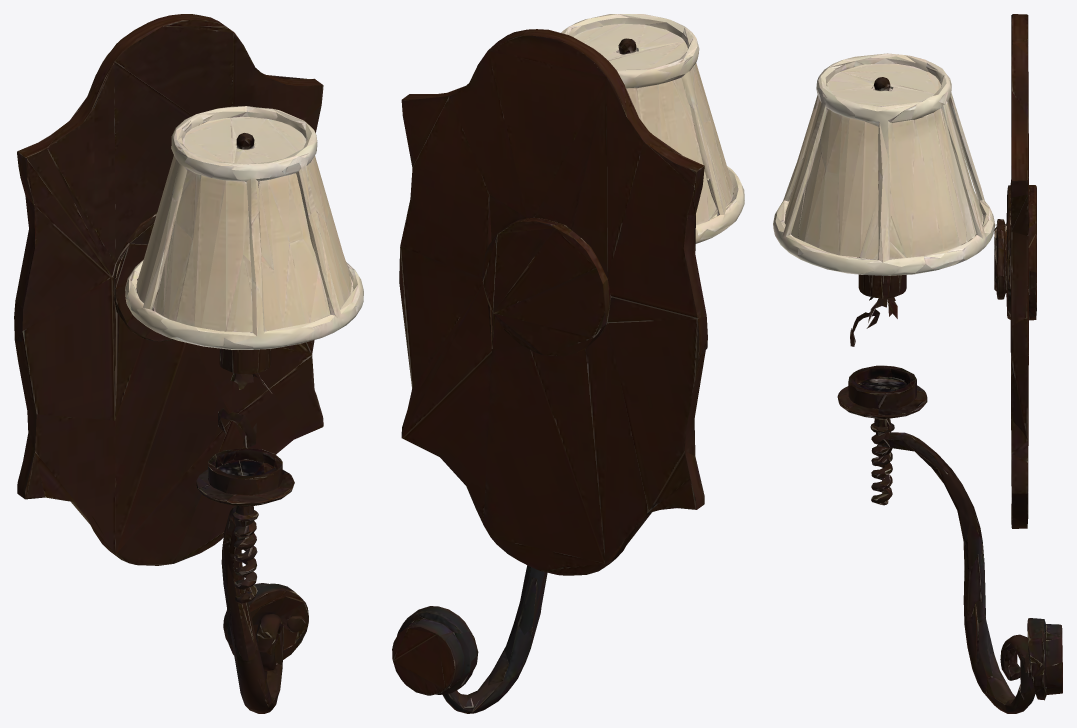
Rendered from wall_lamp.glb.
3 renders of one model, left to right at view 1: azimuth 30°, elevation 25°; view 2: azimuth 150°, elevation 25°; view 3: azimuth 270°, elevation 25°, orthographic. The views are drawn at different scales.
Bounding box in the file's own units: 0.8507 × 1.9 × 0.7678.
1 material, 1 textured.
